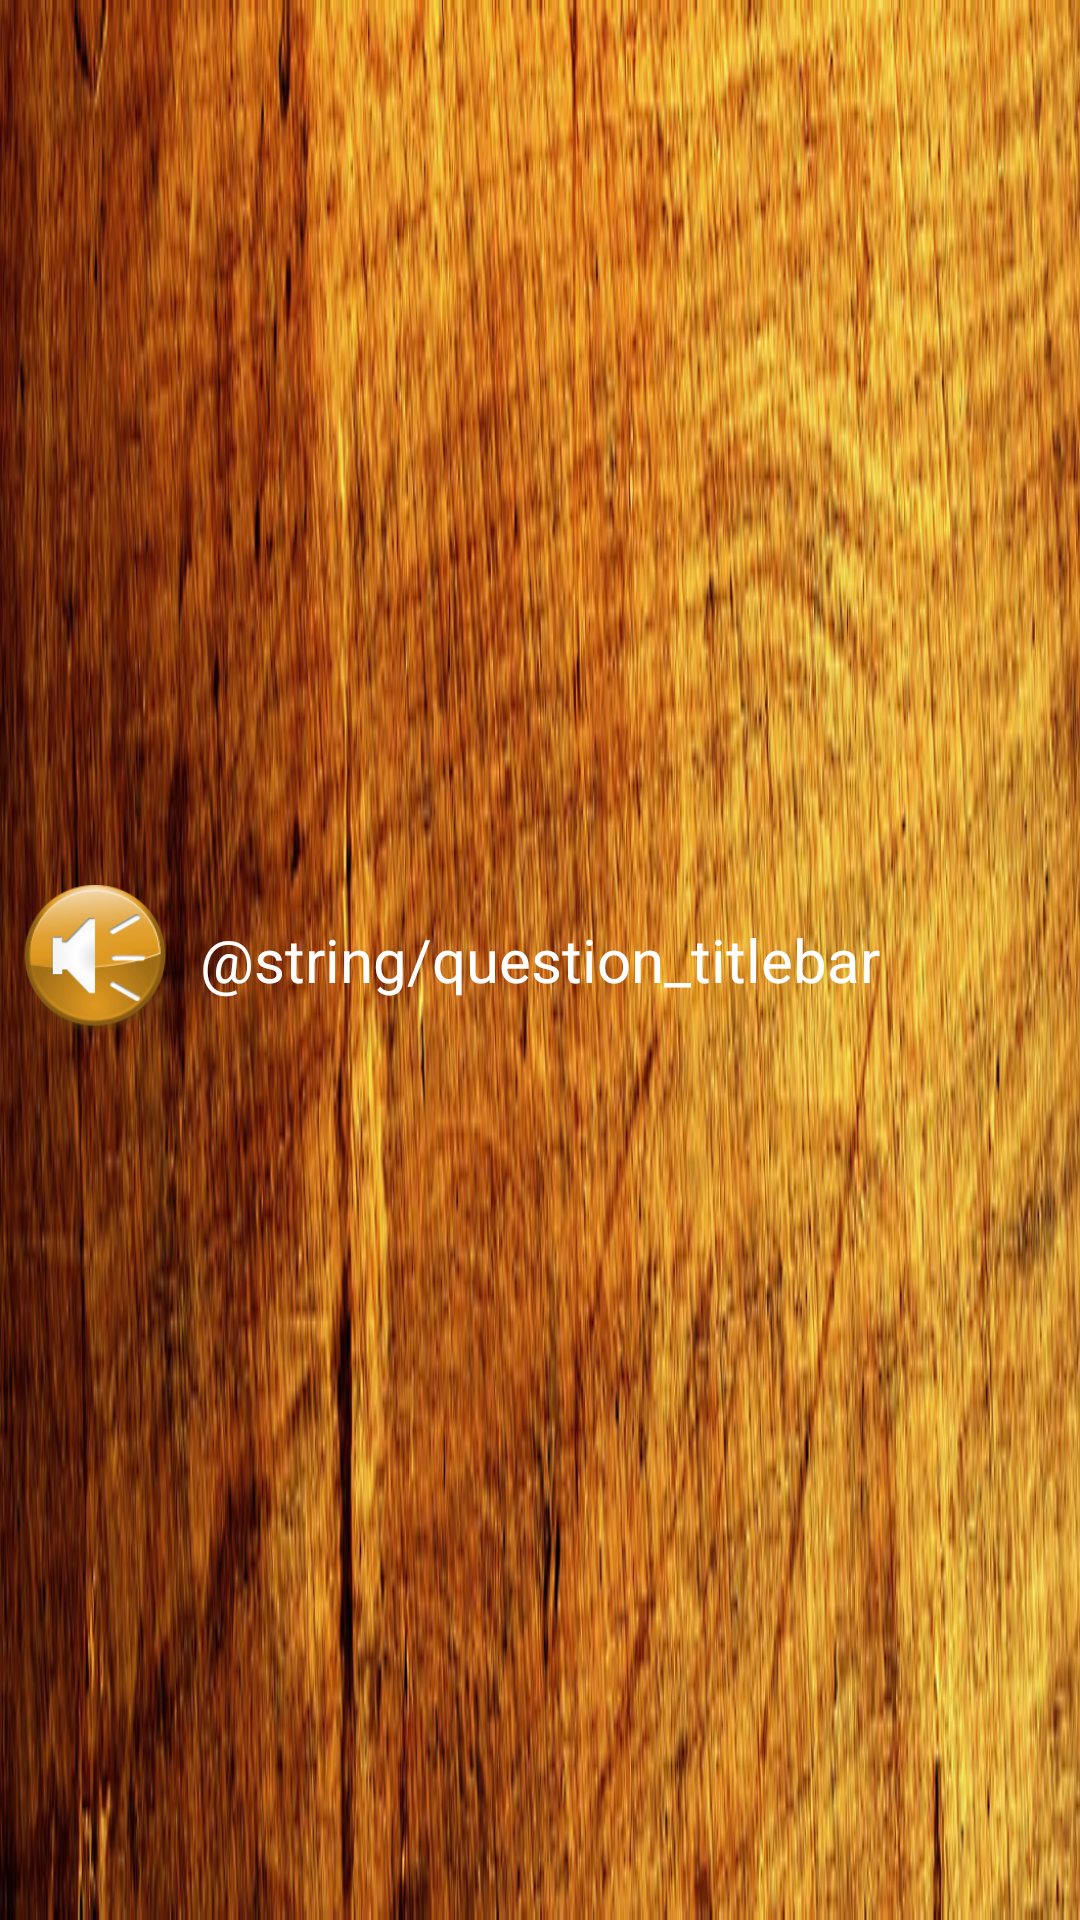

Named icons in this screenshot (1080px x 1920px) and their centers, (x,y):
voice on: (95,960)
